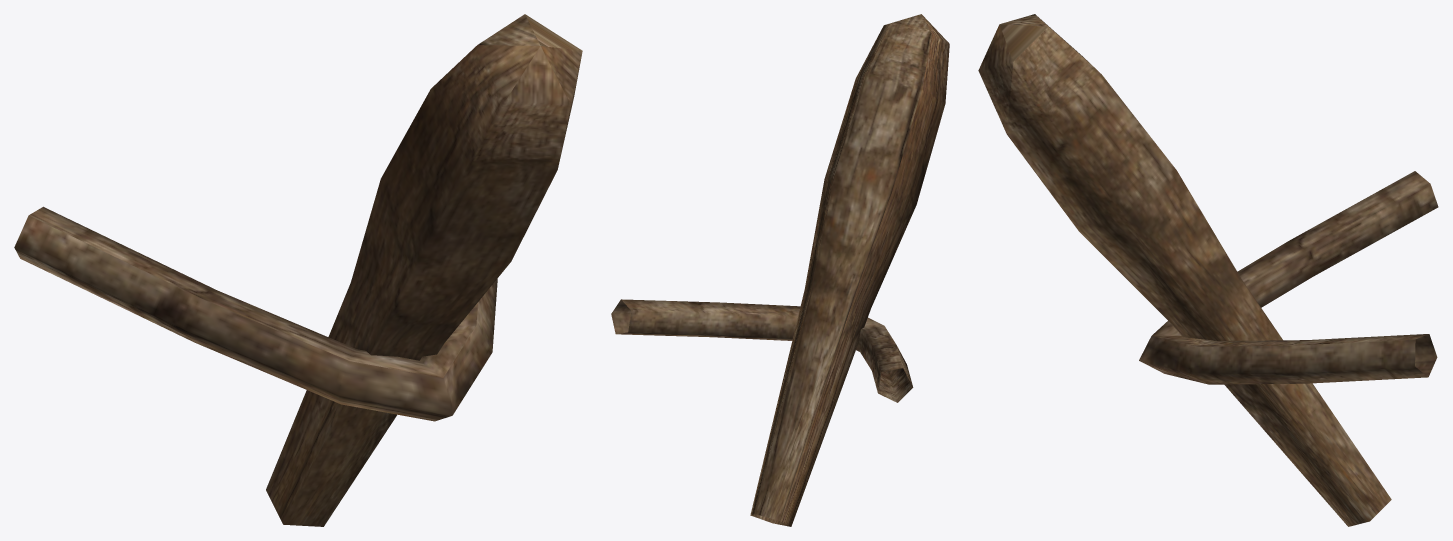
Rendered from tourch.FBX.
The picture shows the model from 3 angles, left to right: view 1: azimuth 30°, elevation 25°; view 2: azimuth 150°, elevation 25°; view 3: azimuth 270°, elevation 25°; orthographic projection. The views are drawn at different scales.
Visible parts, largest first — view 1: Line001; view 2: Line001; view 3: Line001.
Part boxes in pixels (x1,y1,x2,y2): Line001: (14, 14, 582, 526); Line001: (611, 14, 949, 526); Line001: (978, 14, 1438, 526).
Size of the model in its own units: 52.43 by 68.1 by 56.52.
